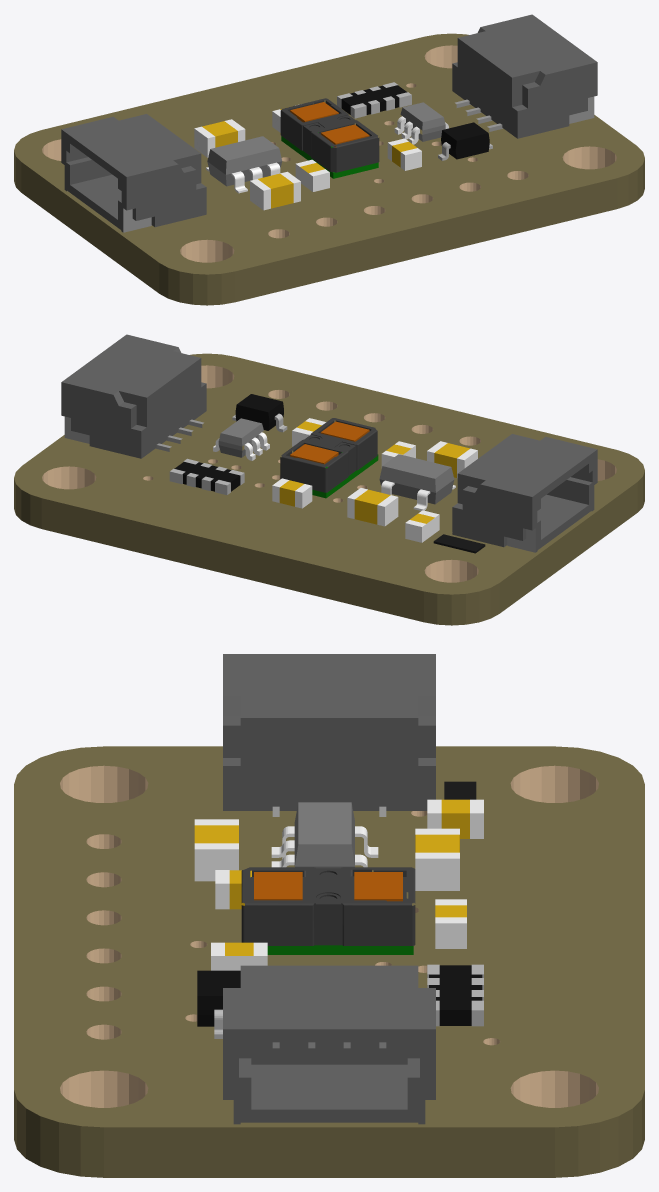
The picture shows the model from 3 angles, top to bottom: view 1: azimuth 30°, elevation 25°; view 2: azimuth 150°, elevation 25°; view 3: azimuth 270°, elevation 25°; orthographic projection. The views are drawn at different scales.
Parts seen in each view (by area): view 1: farbe_1, farbe_5, farbe_2, farbe_0, farbe_3, farbe_11, farbe_9, farbe_10, farbe_12, farbe_6, farbe_4, farbe_7; view 2: farbe_1, farbe_5, farbe_0, farbe_2, farbe_3, farbe_11, farbe_10, farbe_9, farbe_12, farbe_4, farbe_6, farbe_13; view 3: farbe_1, farbe_5, farbe_2, farbe_3, farbe_0, farbe_10, farbe_11, farbe_9, farbe_12, farbe_7, farbe_4.
Part boxes in pixels (<box>): farbe_1: <box>14,33,644,305</box>; farbe_5: <box>61,14,597,232</box>; farbe_2: <box>42,45,616,262</box>; farbe_0: <box>194,104,448,210</box>; farbe_3: <box>280,98,379,172</box>; farbe_11: <box>207,102,445,186</box>; farbe_9: <box>341,85,489,159</box>; farbe_10: <box>202,109,417,208</box>; farbe_12: <box>290,102,369,147</box>; farbe_6: <box>67,96,594,232</box>; farbe_4: <box>337,82,492,160</box>; farbe_7: <box>281,132,378,178</box>; farbe_1: <box>14,353,644,625</box>; farbe_5: <box>61,334,597,552</box>; farbe_0: <box>213,418,477,542</box>; farbe_2: <box>42,365,616,582</box>; farbe_3: <box>280,418,377,492</box>; farbe_11: <box>218,418,454,504</box>; farbe_10: <box>279,421,469,524</box>; farbe_9: <box>174,394,283,491</box>; farbe_12: <box>290,421,369,464</box>; farbe_4: <box>169,413,287,495</box>; farbe_6: <box>64,416,591,552</box>; farbe_13: <box>433,534,485,553</box>; farbe_1: <box>14,746,644,1177</box>; farbe_5: <box>223,654,435,1124</box>; farbe_2: <box>60,765,598,1107</box>; farbe_3: <box>241,867,415,945</box>; farbe_0: <box>194,799,483,970</box>; farbe_10: <box>194,799,469,955</box>; farbe_11: <box>294,802,354,876</box>; farbe_9: <box>197,965,482,1026</box>; farbe_12: <box>254,872,402,901</box>; farbe_7: <box>267,945,413,954</box>; farbe_4: <box>214,964,483,1038</box>.
Size of the model in its own units: 25.4 by 4.53 by 17.78.
